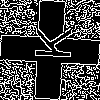K: (25, 25, 72, 61)
